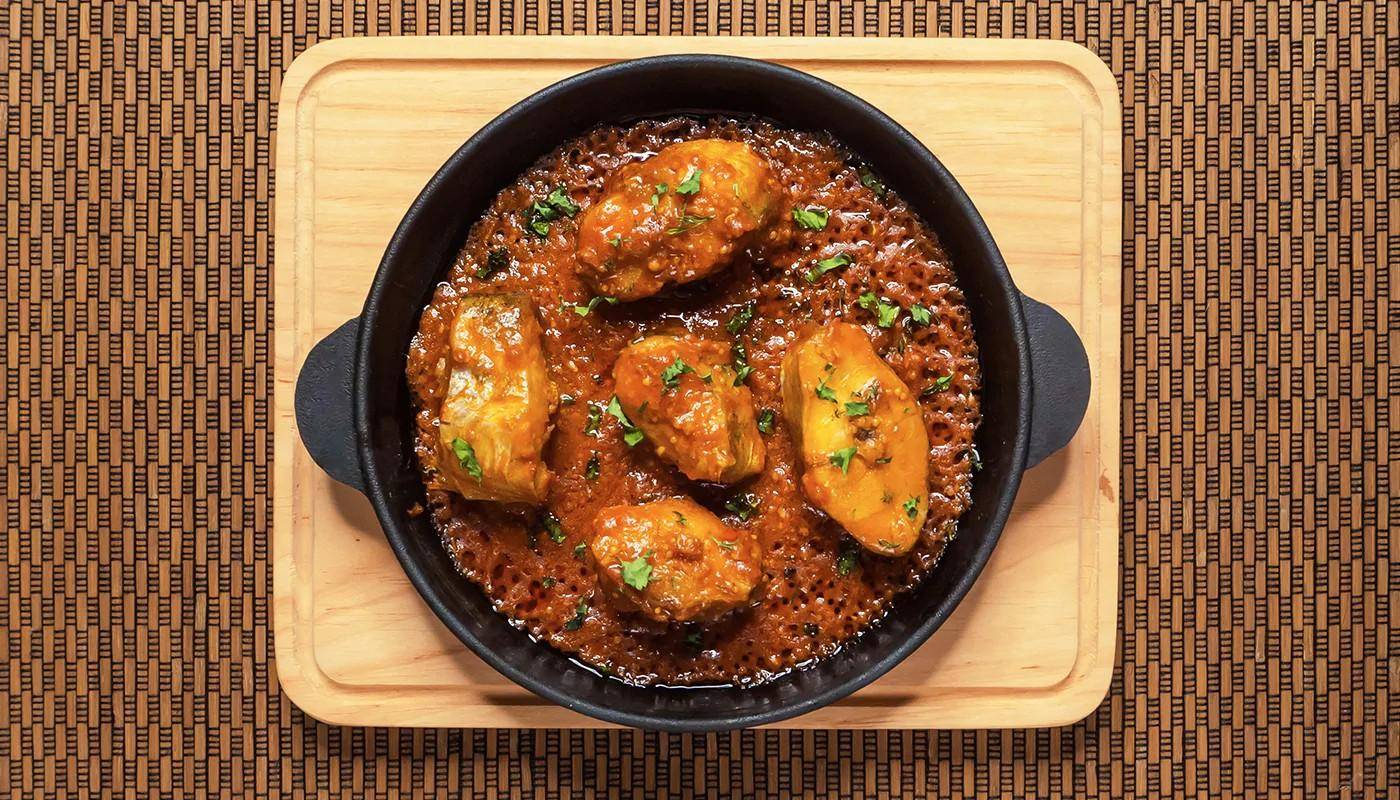FishCurry: (411, 116, 988, 684)
